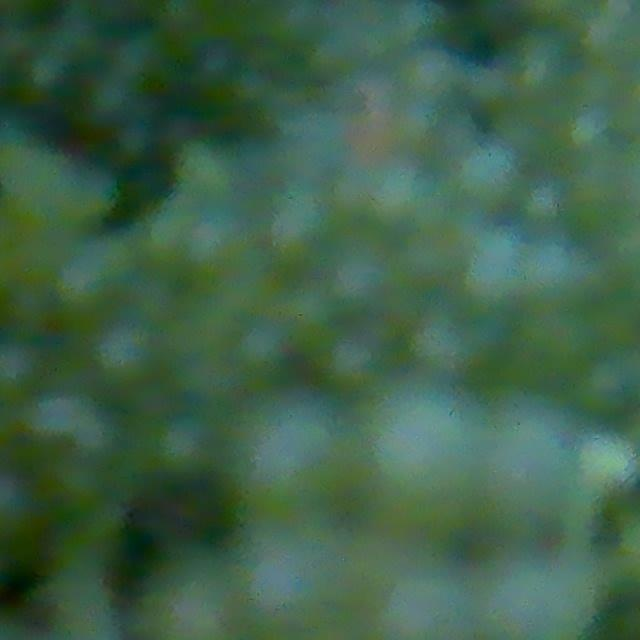SeaGrape: (360, 382, 485, 540), (216, 392, 354, 533), (465, 414, 577, 543), (231, 520, 327, 633), (489, 557, 606, 640), (381, 566, 493, 640), (139, 566, 235, 640), (326, 237, 401, 312), (462, 233, 528, 309), (91, 318, 158, 387), (321, 321, 386, 389), (152, 413, 216, 477), (457, 141, 520, 205), (507, 32, 566, 94), (520, 235, 576, 294), (403, 45, 462, 100), (0, 343, 52, 400)
